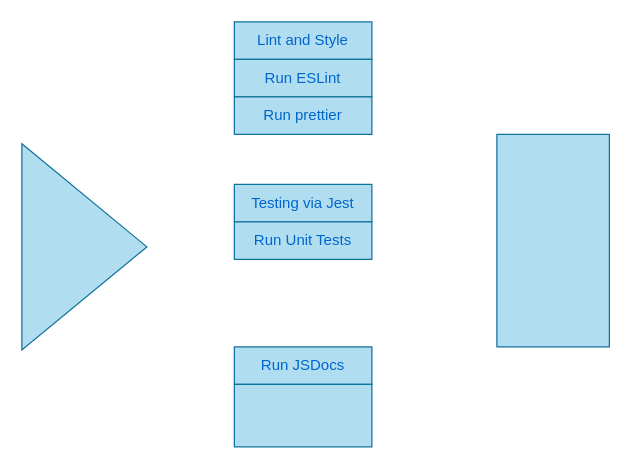
Some shapes in this 631 by 469 pixel diagram are drawn without their labels. Here are the shapes that lost their labels. From the top down, the centre of each, then its label:
At point (84, 246): "On commit".
At point (552, 240): "Return results".
At point (302, 415): "Generate documentation in /out".
